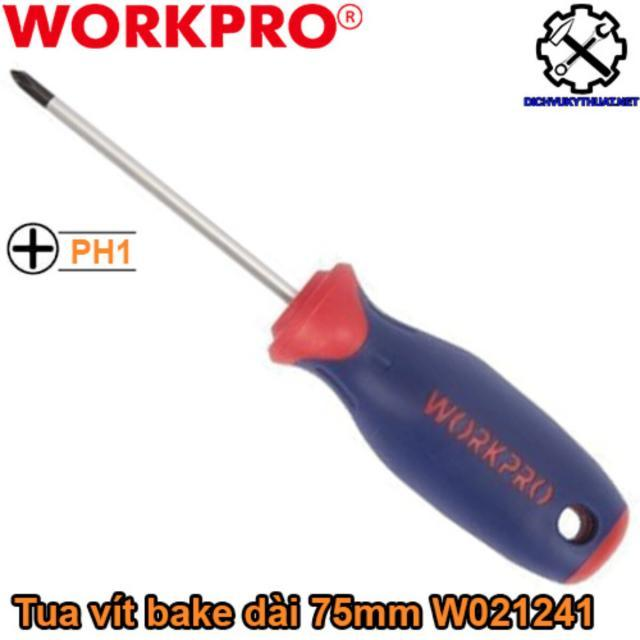screwdriver: (2, 66, 636, 589)
